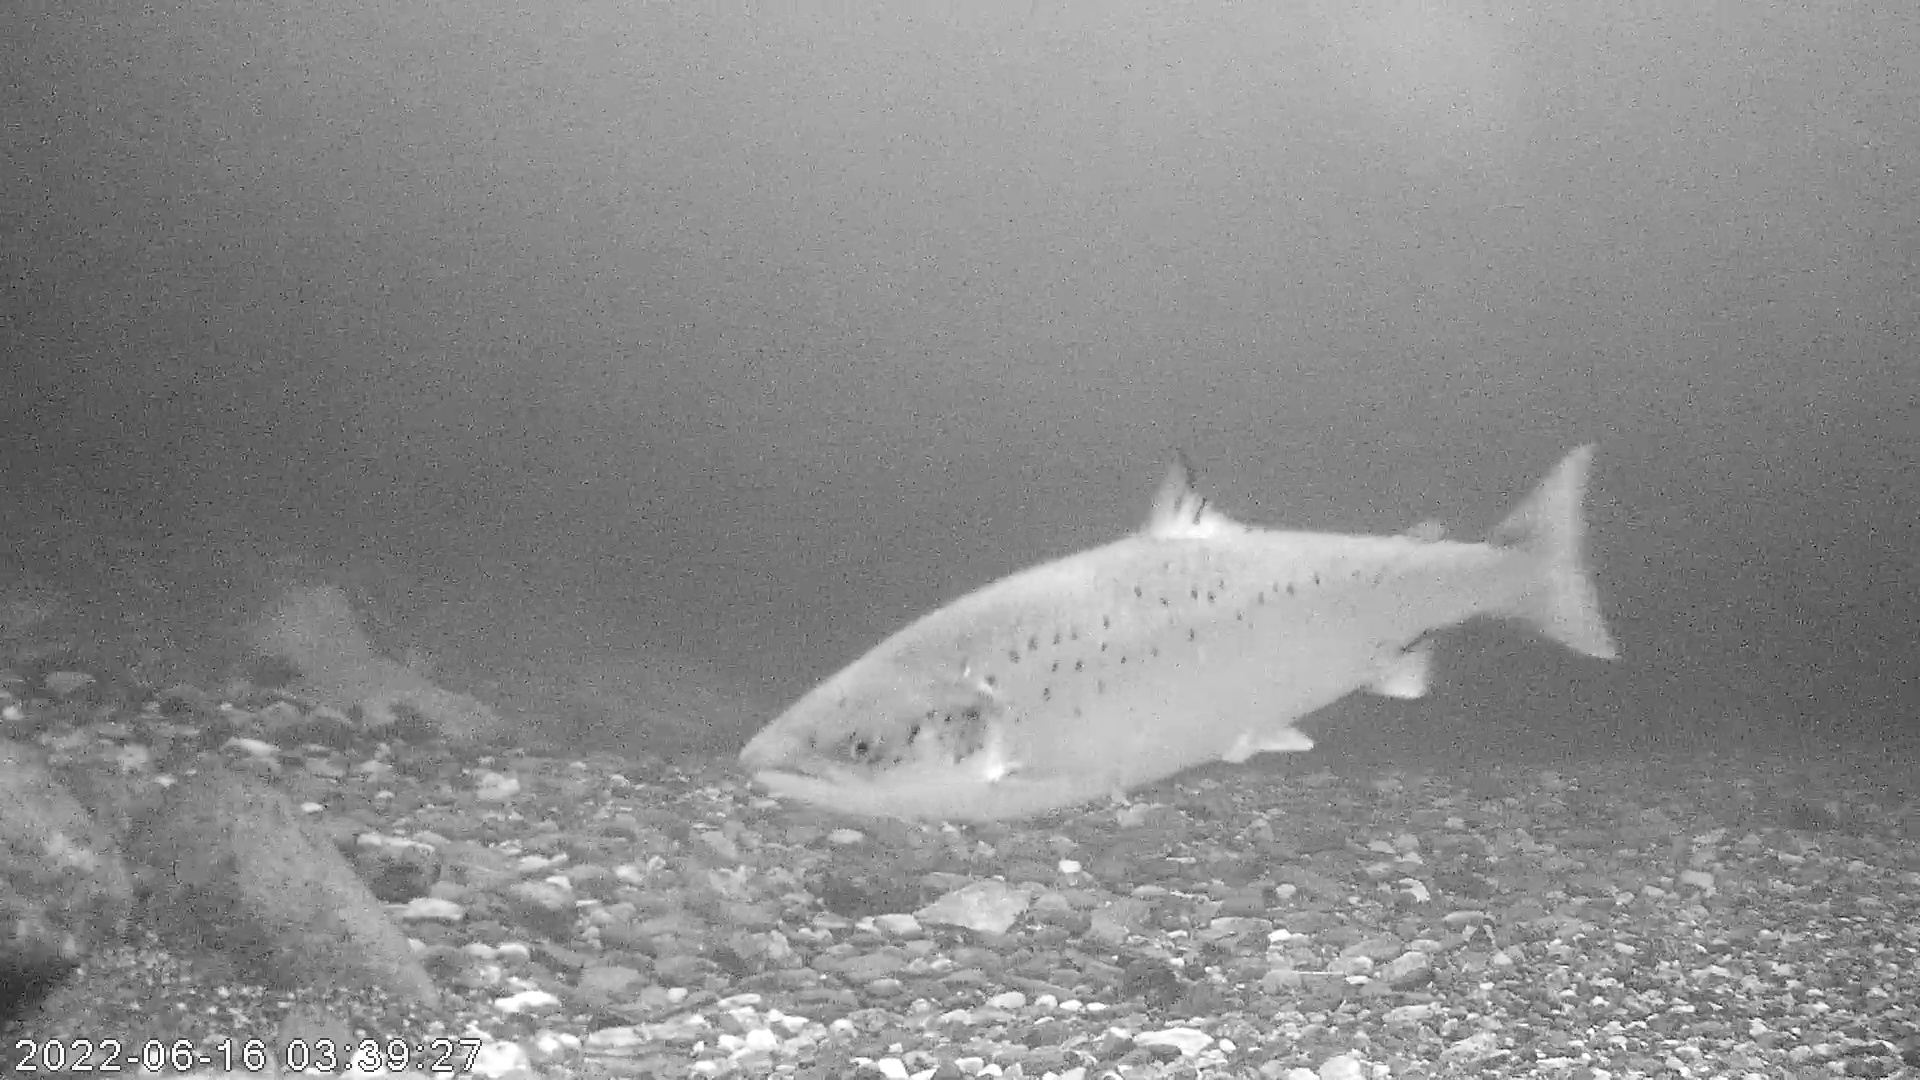salmon: (735, 434, 1623, 827)
